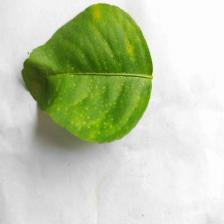greening: (14, 2, 166, 150)
